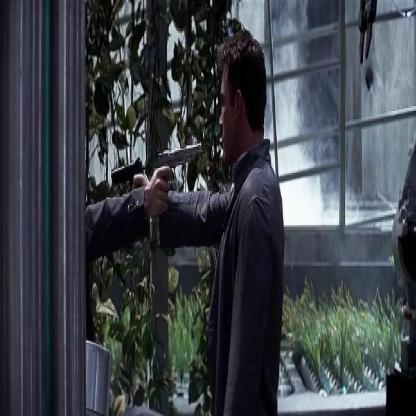Guns: (153, 137, 204, 233), (106, 154, 144, 202)
